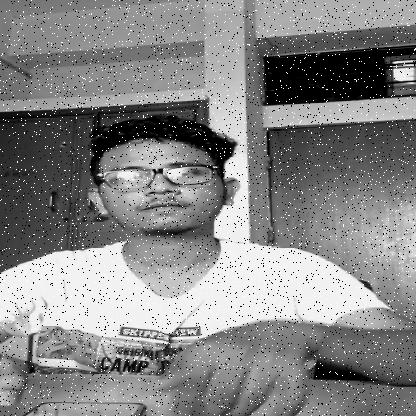Normal: (90, 128, 240, 232)
